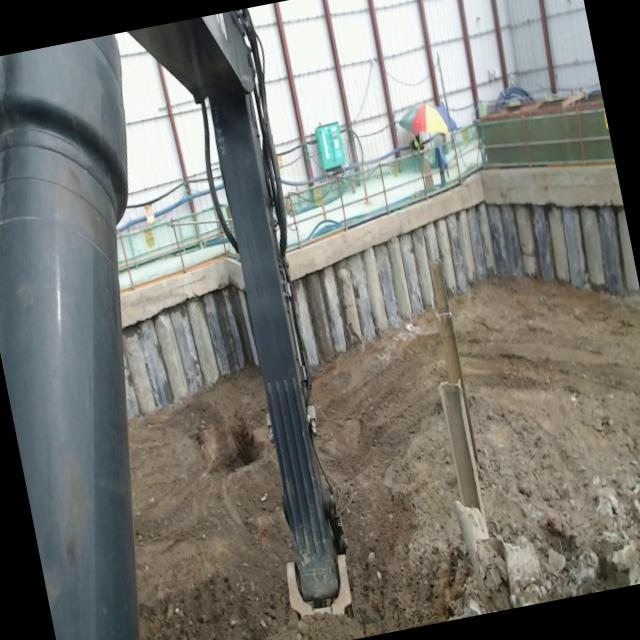red-sand: (129, 279, 640, 640)
